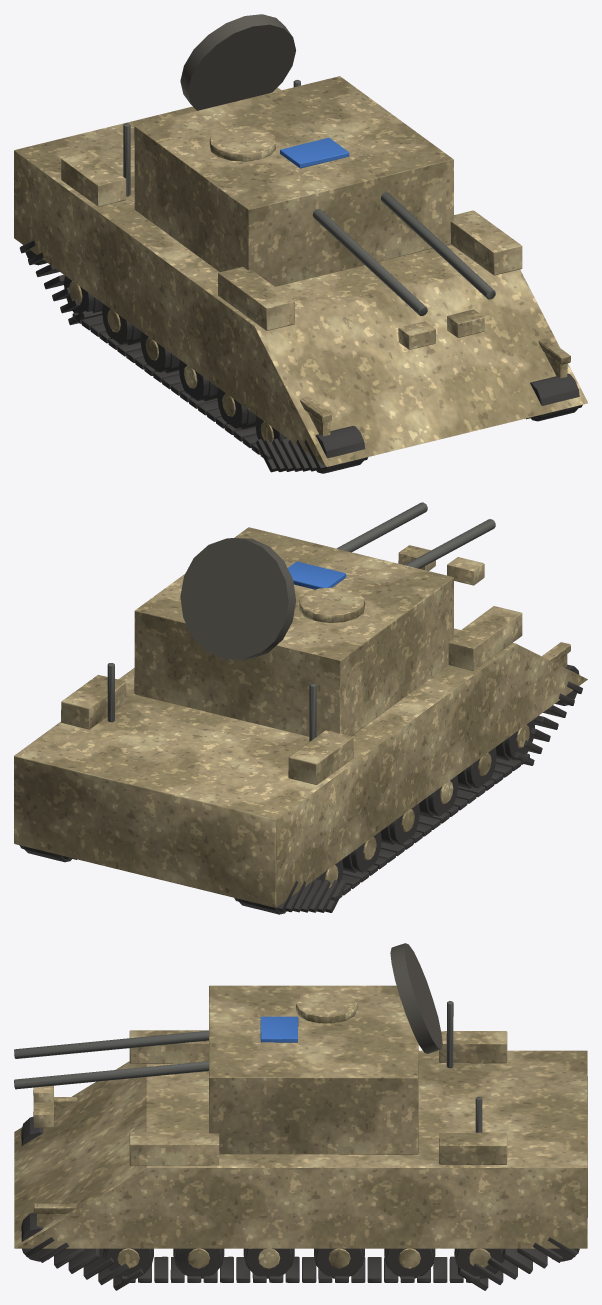
The model's file is aad_e4_us_spaag_LOD1.glb.
3 renders of one model, top to bottom at view 1: azimuth 30°, elevation 25°; view 2: azimuth 150°, elevation 25°; view 3: azimuth 270°, elevation 25°, orthographic. The views are drawn at different scales.
Parts seen in each view (by area): view 1: aad_e4_us_spaag_LOD1_body, aad_e4_us_spaag_LOD1_track, aad_e4_us_spaag_LOD1_deck, aad_e4_us_spaag_LOD1_gun, aad_e4_us_spaag_LOD1_team; view 2: aad_e4_us_spaag_LOD1_body, aad_e4_us_spaag_LOD1_deck, aad_e4_us_spaag_LOD1_track, aad_e4_us_spaag_LOD1_gun, aad_e4_us_spaag_LOD1_team; view 3: aad_e4_us_spaag_LOD1_body, aad_e4_us_spaag_LOD1_track, aad_e4_us_spaag_LOD1_gun, aad_e4_us_spaag_LOD1_deck, aad_e4_us_spaag_LOD1_team.
Boxes of the visible parts, x1,y1,x2,y2 form: aad_e4_us_spaag_LOD1_body: (14, 76, 587, 466); aad_e4_us_spaag_LOD1_track: (19, 240, 582, 473); aad_e4_us_spaag_LOD1_deck: (180, 14, 295, 110); aad_e4_us_spaag_LOD1_gun: (123, 79, 495, 315); aad_e4_us_spaag_LOD1_team: (280, 137, 349, 168); aad_e4_us_spaag_LOD1_body: (14, 527, 587, 907); aad_e4_us_spaag_LOD1_deck: (180, 538, 295, 659); aad_e4_us_spaag_LOD1_track: (19, 664, 582, 914); aad_e4_us_spaag_LOD1_gun: (107, 502, 495, 741); aad_e4_us_spaag_LOD1_team: (287, 561, 346, 589); aad_e4_us_spaag_LOD1_body: (14, 985, 587, 1268); aad_e4_us_spaag_LOD1_track: (21, 1117, 579, 1290); aad_e4_us_spaag_LOD1_gun: (14, 1001, 482, 1132); aad_e4_us_spaag_LOD1_deck: (390, 943, 442, 1053); aad_e4_us_spaag_LOD1_team: (260, 1016, 298, 1042).
Bounding box in the file's own units: 3.25 × 3.66 × 6.7.
Materials: 5 (1 with a texture image).
